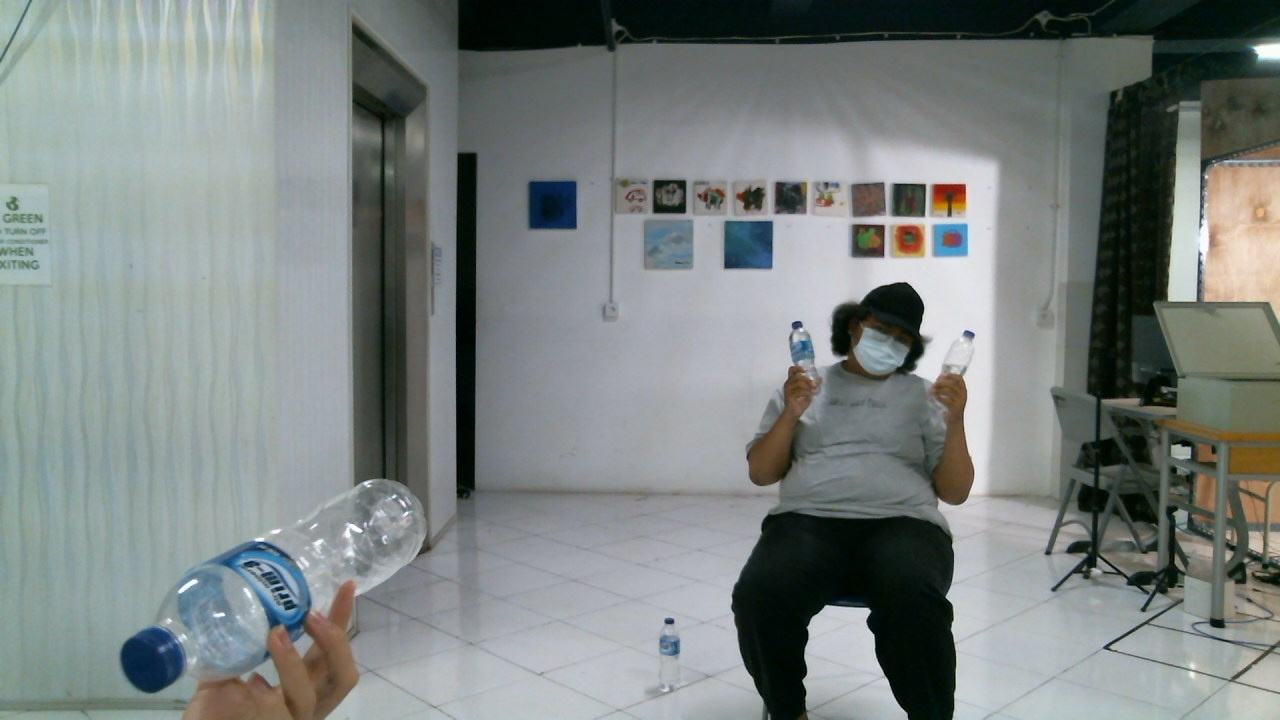Bottle: (124, 475, 427, 689), (786, 319, 818, 385)
